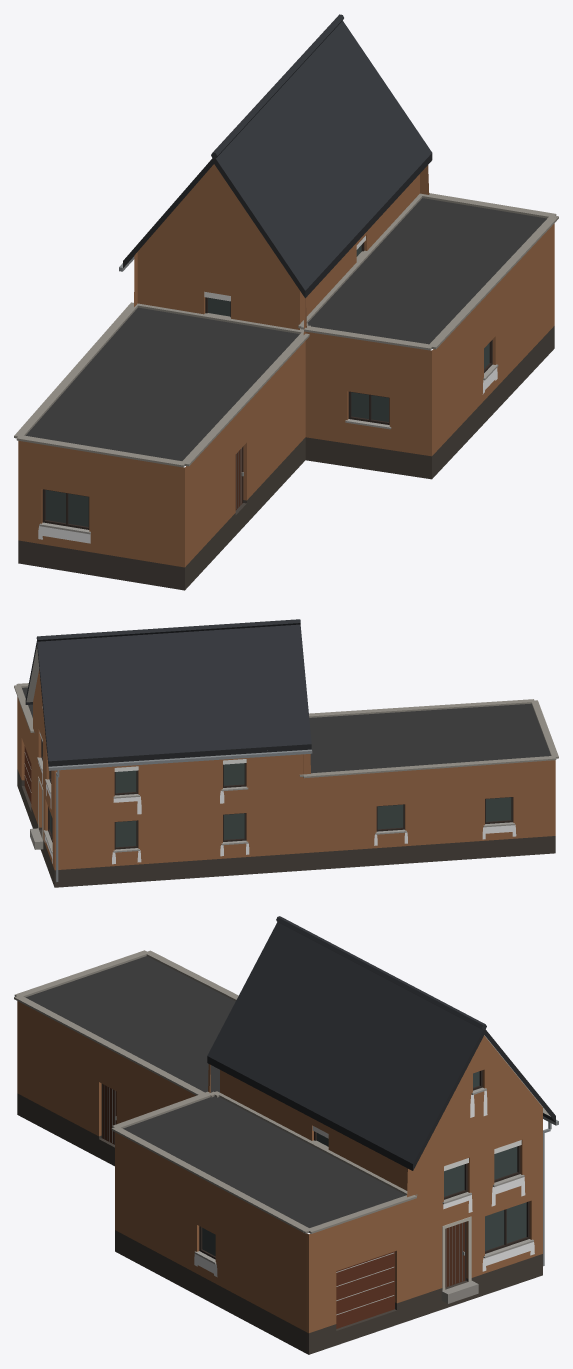
File: vh_garage_gable.glb
3 views of the same model, one above another, from view 1: azimuth 30°, elevation 25°; view 2: azimuth 150°, elevation 25°; view 3: azimuth 270°, elevation 25° (orthographic). The views are drawn at different scales.
Parts seen in each view (by area): view 1: vh_brick, vh_stone, vh_roof, vh_trim, vh_glass, vh_frames_small, vh_streaks_small; view 2: vh_brick, vh_roof, vh_stone, vh_trim, vh_glass, vh_frames_small, vh_streaks_small; view 3: vh_brick, vh_stone, vh_roof, vh_trim, vh_glass, vh_frames_small, vh_streaks_small.
Boxes of the visible parts, box(x1,y1,x2,y2) form: vh_brick: box(18, 164, 554, 567); vh_stone: box(14, 193, 558, 534); vh_roof: box(211, 14, 432, 290); vh_trim: box(18, 153, 554, 590); vh_glass: box(45, 245, 489, 526); vh_frames_small: box(42, 242, 492, 529); vh_streaks_small: box(38, 368, 497, 543); vh_brick: box(17, 670, 555, 870); vh_roof: box(36, 619, 311, 761); vh_stone: box(14, 683, 558, 852); vh_trim: box(17, 641, 555, 887); vh_glass: box(50, 763, 511, 847); vh_frames_small: box(24, 739, 513, 881); vh_streaks_small: box(38, 706, 516, 864); vh_brick: box(17, 1001, 542, 1333); vh_stone: box(14, 950, 533, 1303); vh_roof: box(207, 916, 486, 1163); vh_trim: box(17, 1029, 555, 1354); vh_glass: box(202, 1071, 526, 1256); vh_frames_small: box(101, 1070, 558, 1315); vh_streaks_small: box(194, 1090, 534, 1277).
Bounding box in the file's own units: 22.64 × 10.12 × 18.15.
